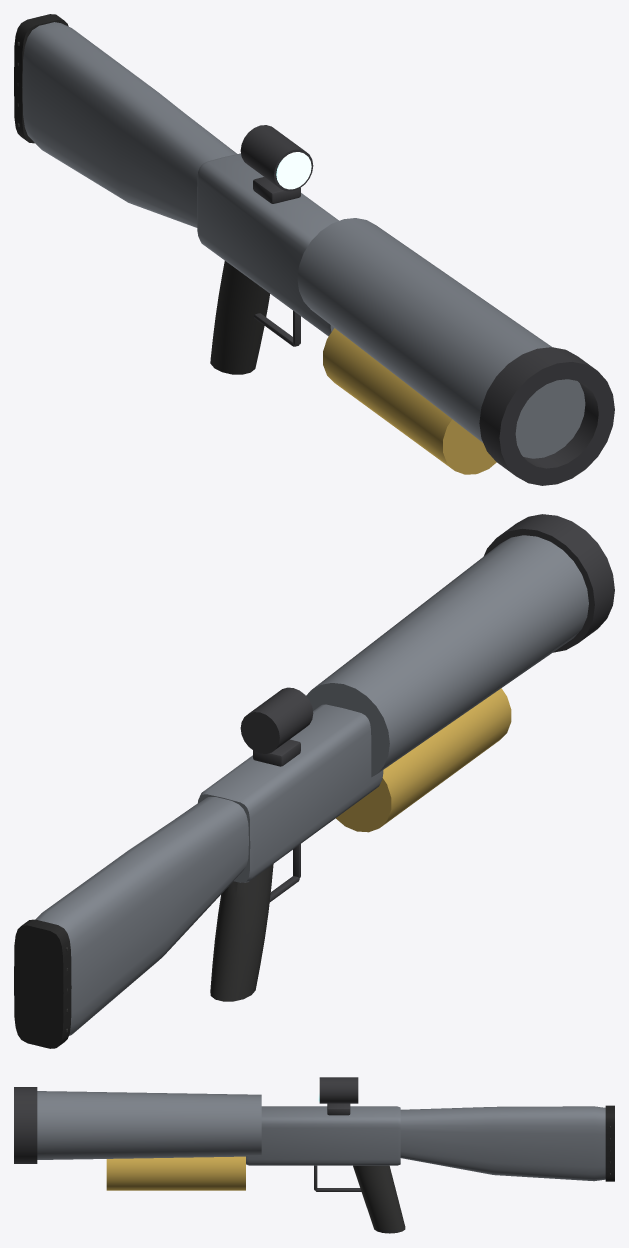
Rendered from splash.glb.
3 renders of one model, top to bottom at view 1: azimuth 30°, elevation 25°; view 2: azimuth 150°, elevation 25°; view 3: azimuth 270°, elevation 25°, orthographic. The views are drawn at different scales.
Visible parts, largest first — view 1: Body; view 2: Body; view 3: Body.
Boxes of the visible parts, <box> form: Body: <box>14,14,614,485</box>; Body: <box>14,514,614,1048</box>; Body: <box>14,1077,614,1233</box>.
Size of the model in its own units: 0.1 by 0.2136 by 0.777.
